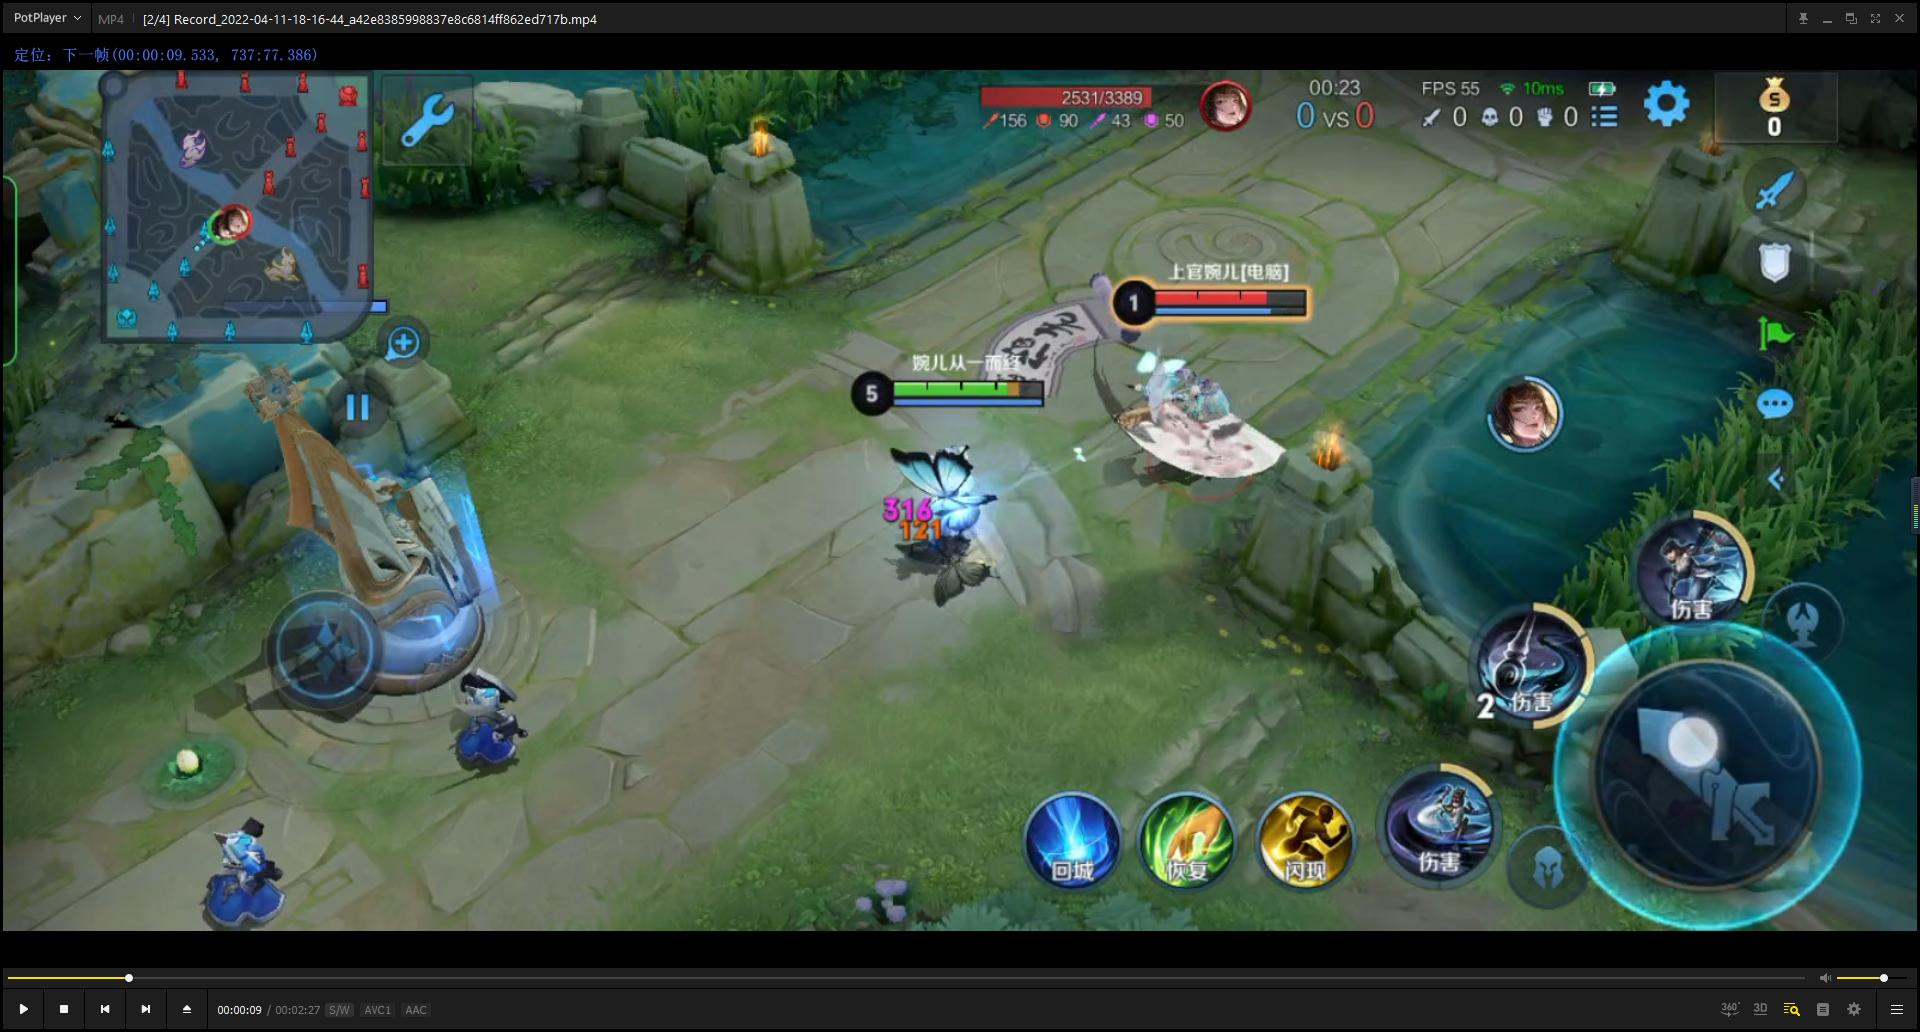Hero: (1088, 334, 1332, 513)
Solider: (182, 813, 319, 932), (454, 648, 529, 789)
Tower: (186, 350, 515, 714)
